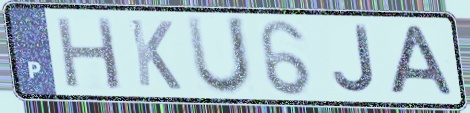6: (257, 16, 315, 98)
A: (387, 23, 458, 99)
H: (52, 13, 125, 92)
J: (330, 23, 379, 96)
K: (126, 16, 185, 93)
U: (182, 13, 255, 99)
